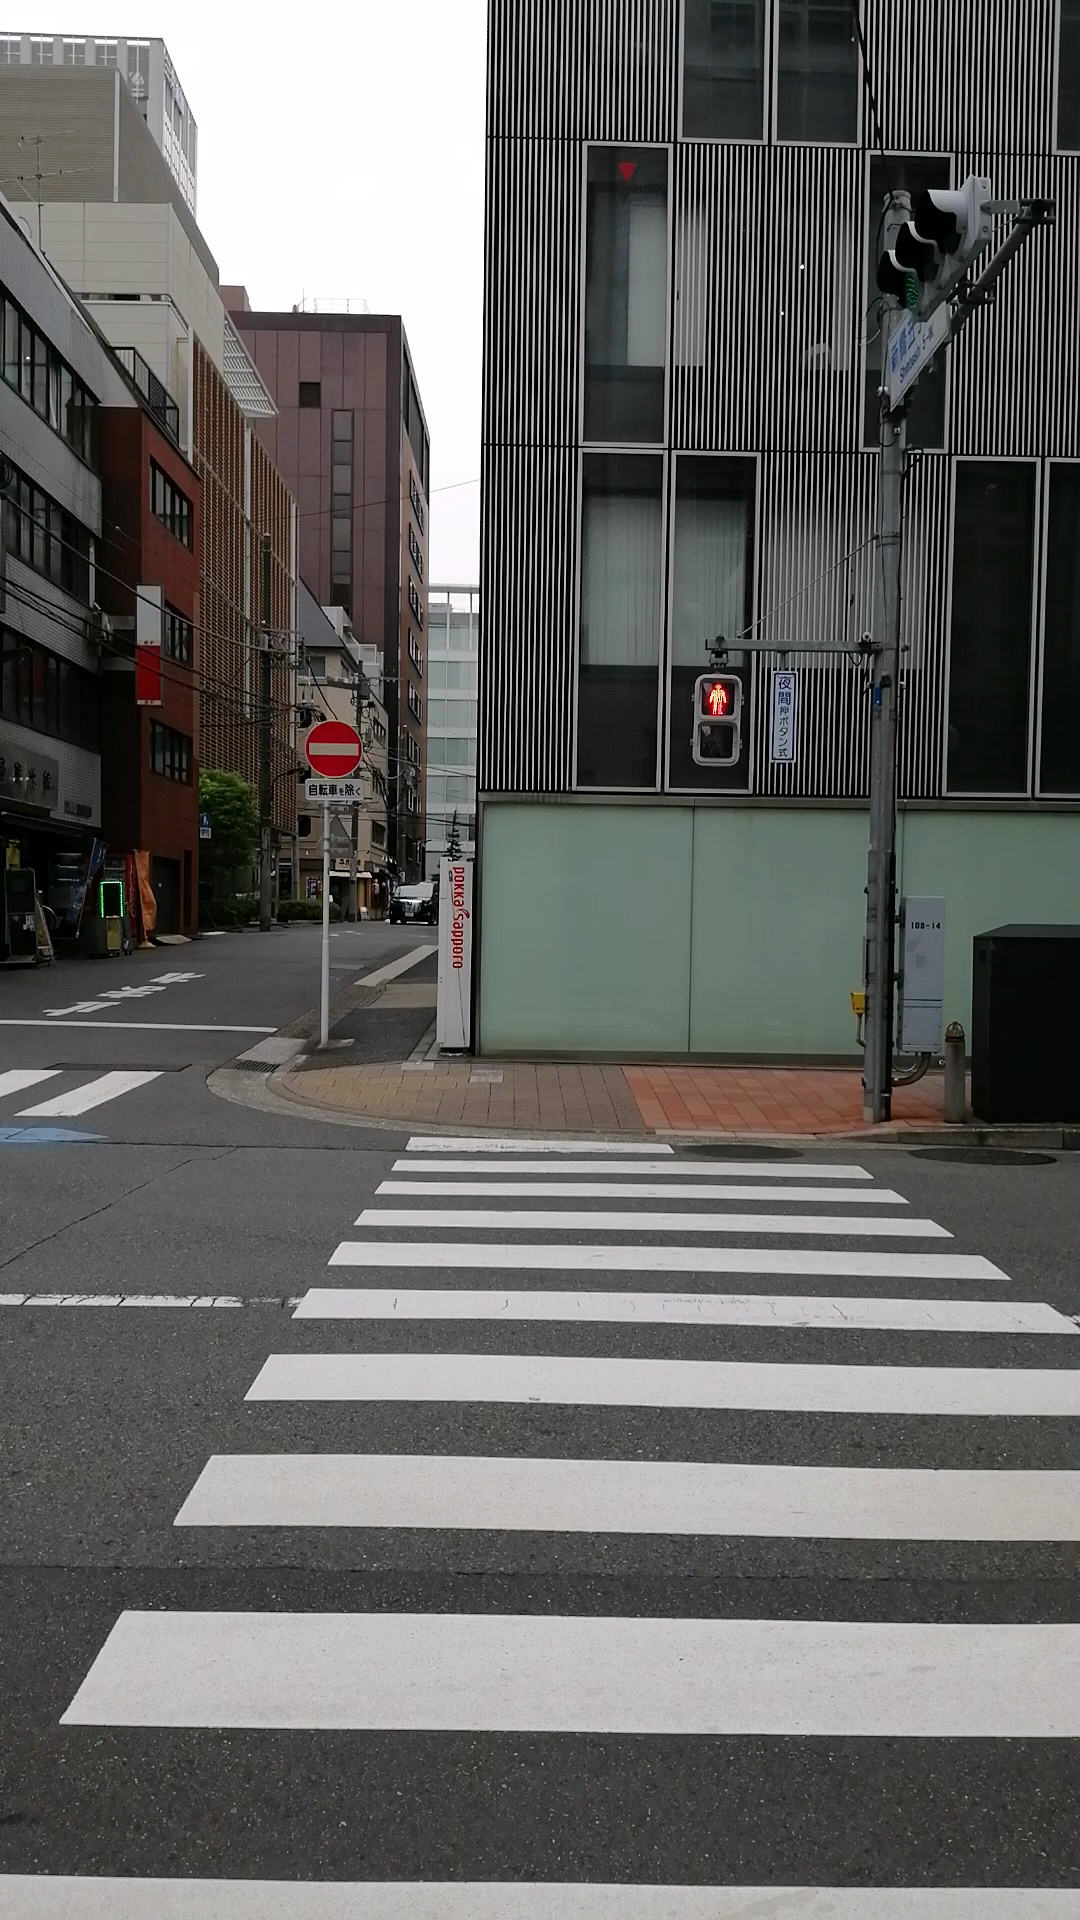red: (691, 670, 741, 769)
